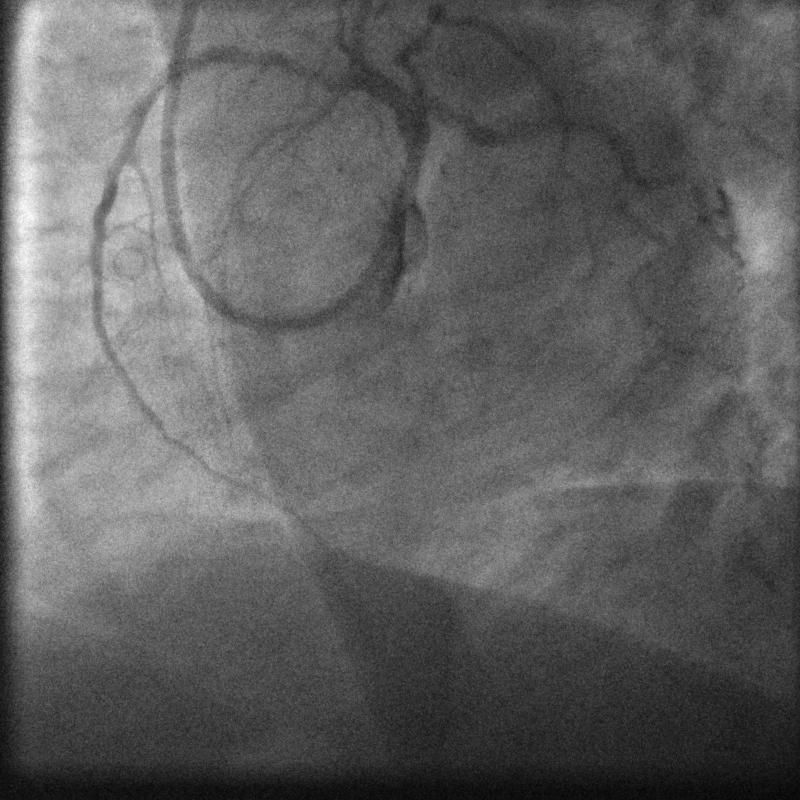Stenosis: (289, 52, 346, 97)
